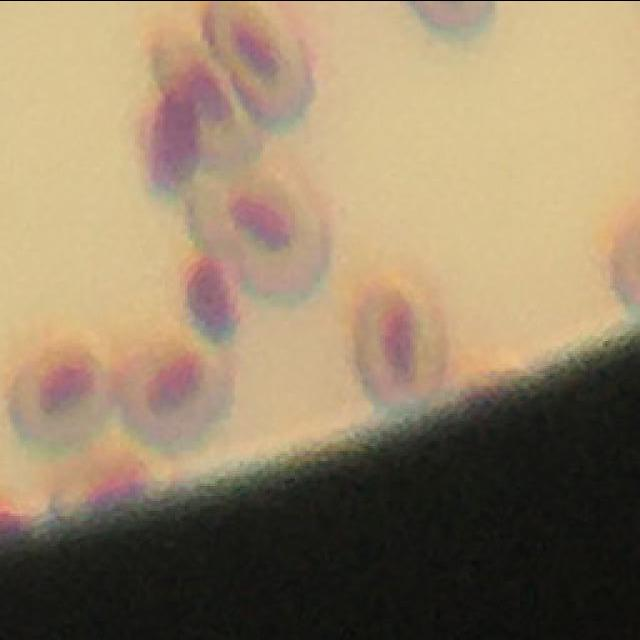RBC: (189, 158, 331, 302), (148, 21, 264, 166), (113, 325, 237, 458), (203, 0, 316, 131), (9, 330, 113, 454), (356, 285, 449, 405), (49, 446, 153, 509)
WBC: (144, 88, 201, 200), (180, 258, 241, 342)
